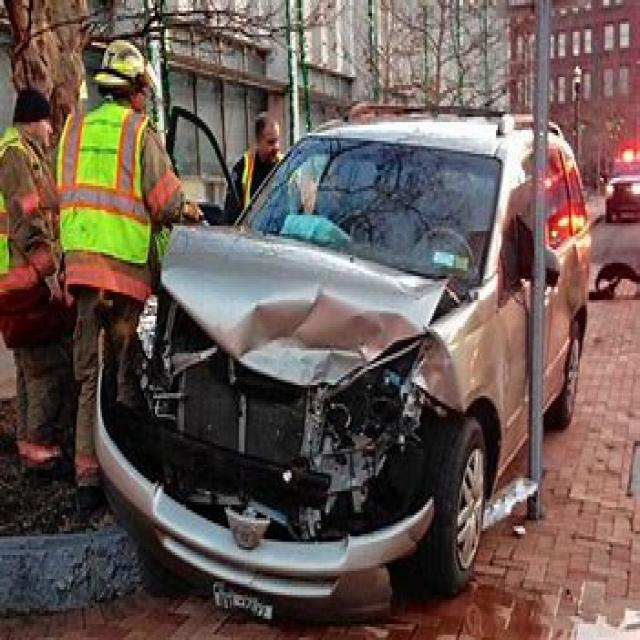Accident: (124, 65, 558, 575)
